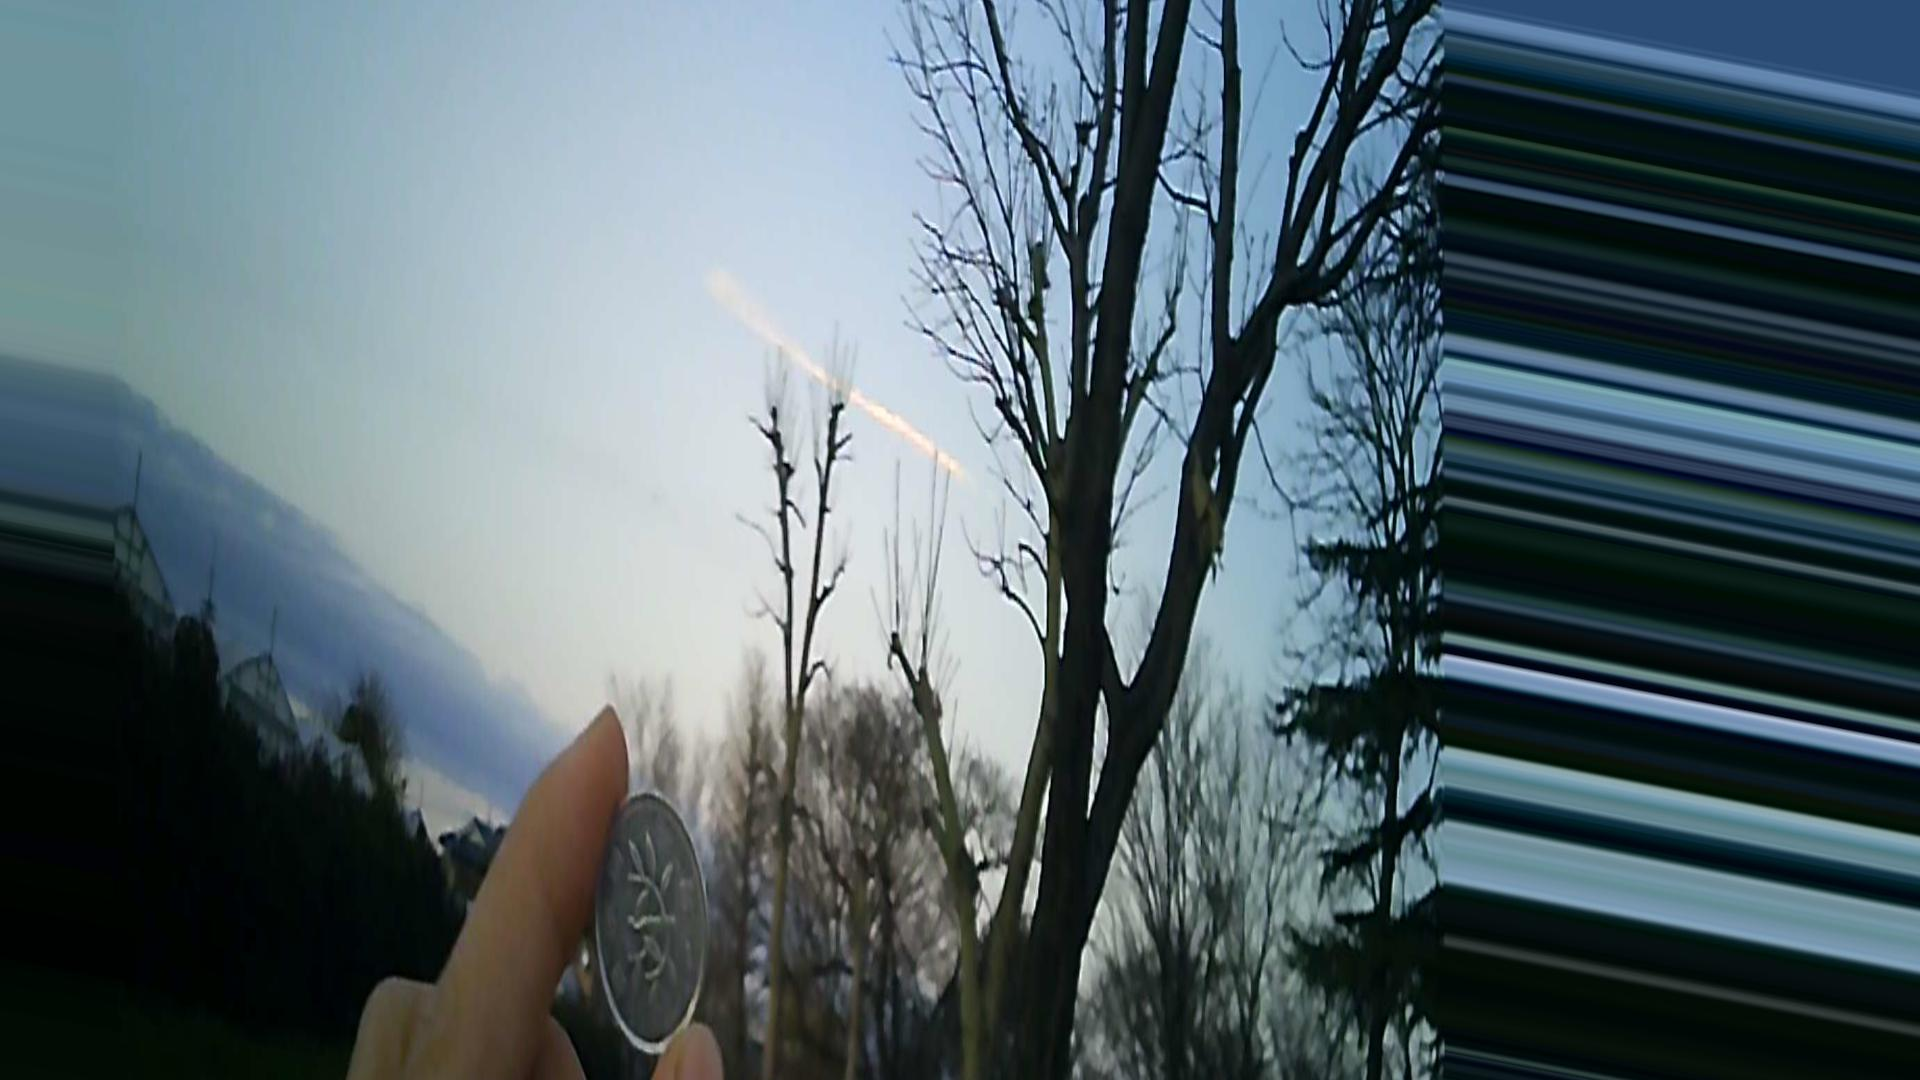1 Yen: (576, 794, 719, 1069)
